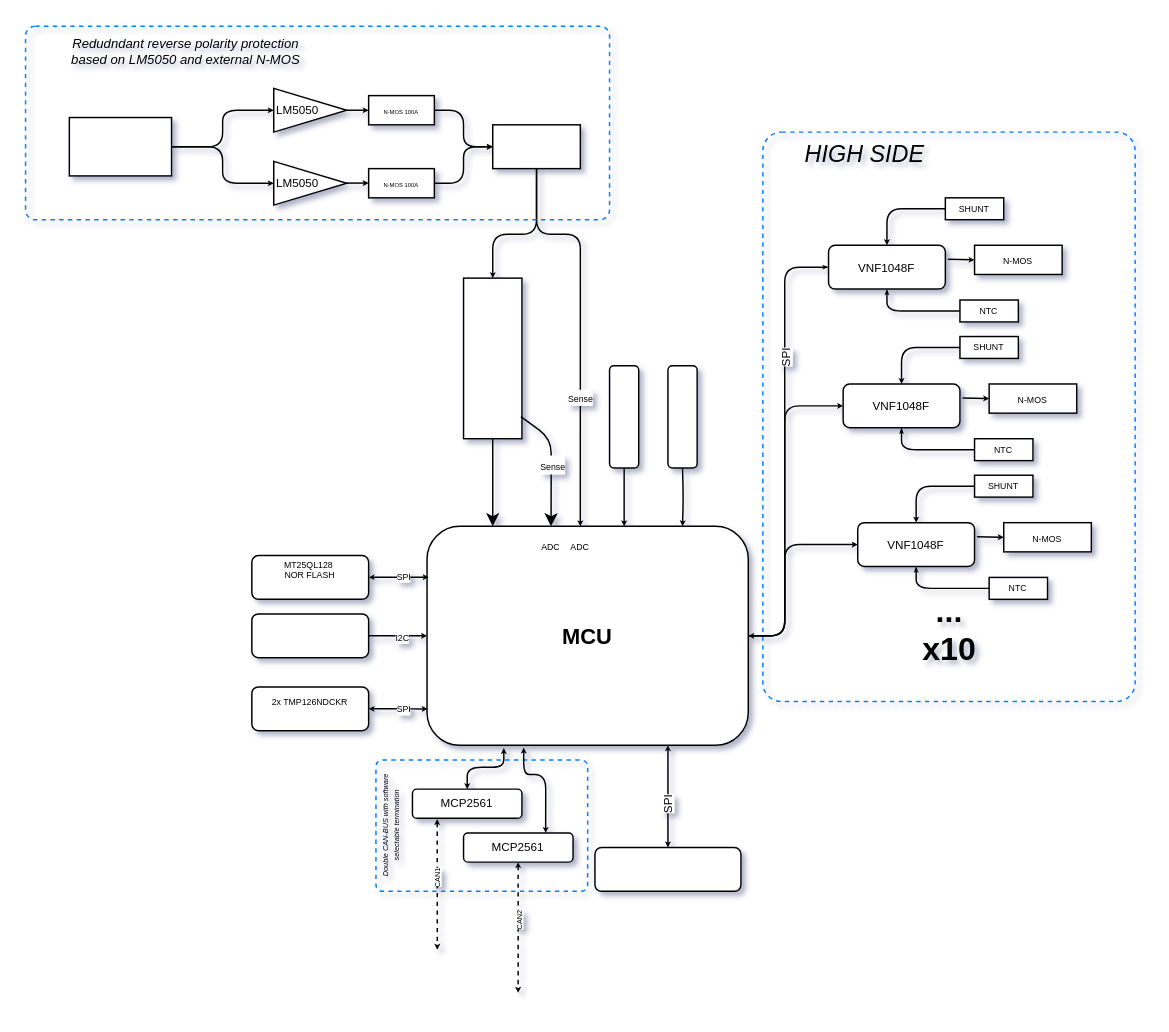
Image size: 1169x1032. Some labels were removed from this diagram. The shapes that lost their labels are listed below. From the top down, each one's centre as x and y in pixels, then its label:
At [120,146]: "CAR BATTERY".
At [535,146]: "BATTERY PROTECTED SOURCE".
At [492,358]: "3.3V 5V BUCK".
At [623,416]: "16 x ARGB".
At [681,416]: "BUZZER".
At [309,635]: "SAFETY IMU".
At [667,868]: "TLE9104SH LOW-SIDE 4 OUTPUT".
